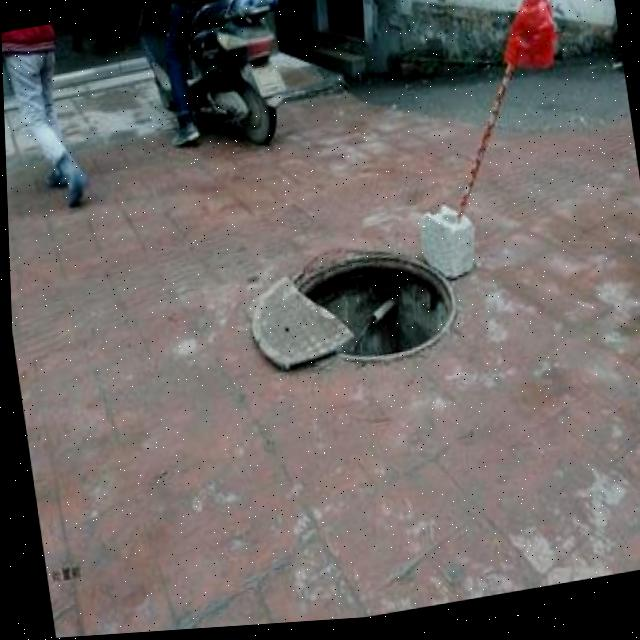manhole: (264, 234, 463, 381)
